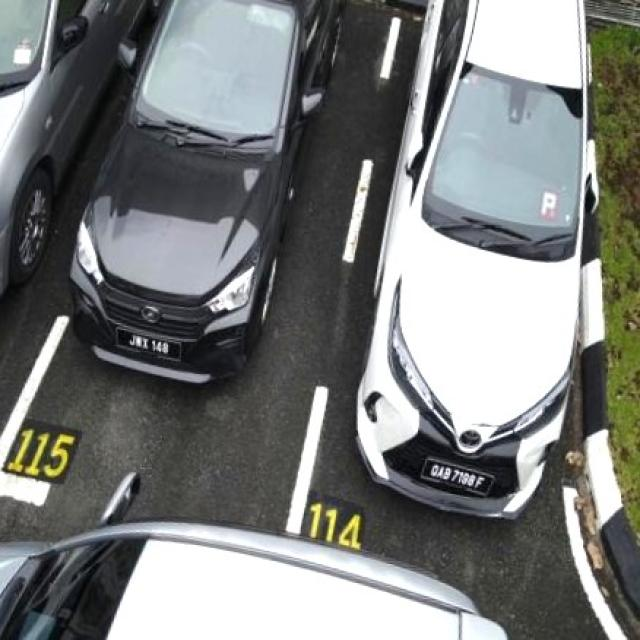Legalparking: (369, 0, 605, 533), (62, 0, 347, 390)
